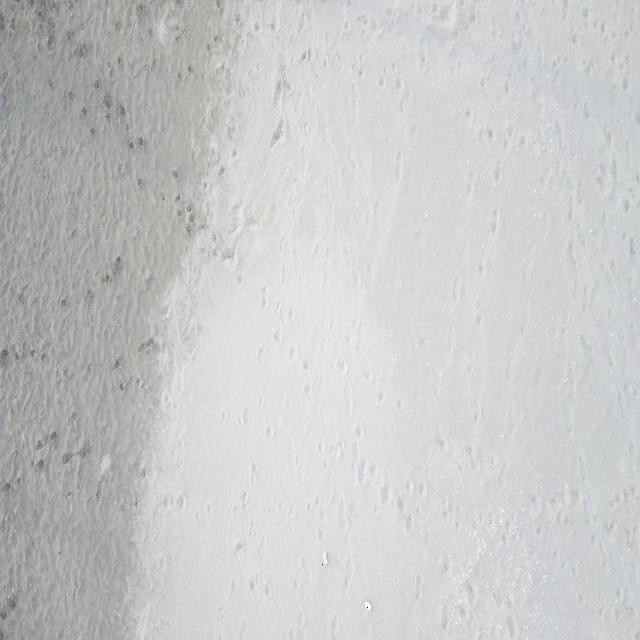tin-and-aluminum-cans: (364, 600, 372, 612), (322, 550, 328, 565)
